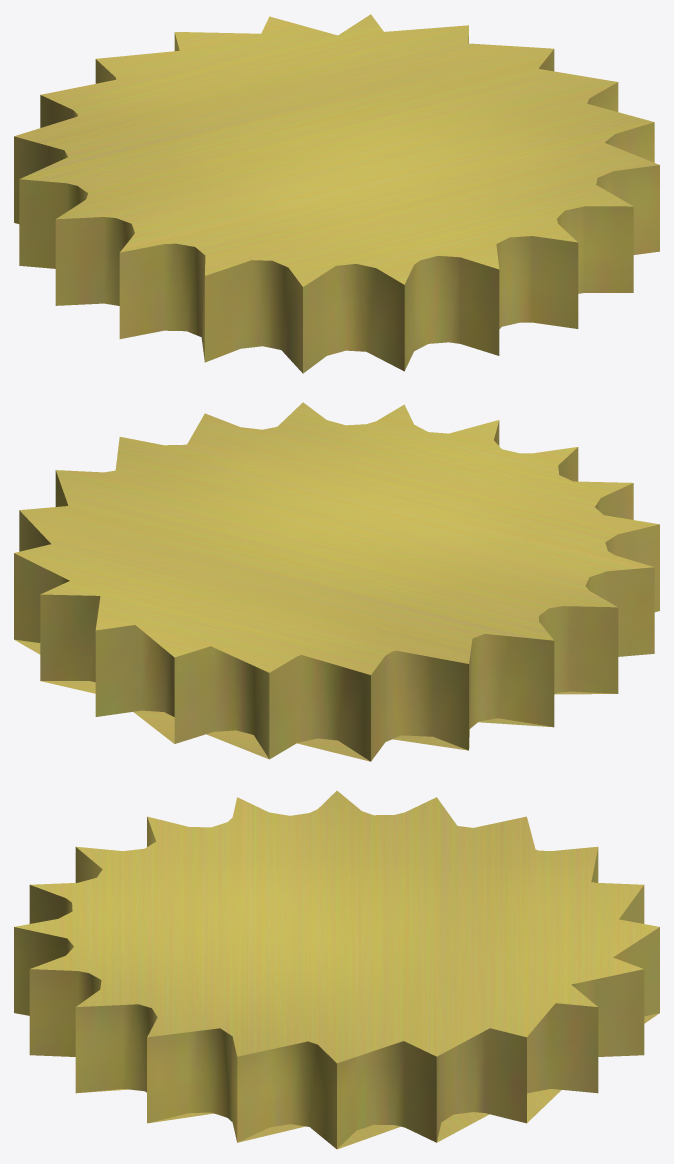
The model's file is SprocketFacet4Spoke020.fbx.
3 renders of one model, top to bottom at view 1: azimuth 30°, elevation 25°; view 2: azimuth 150°, elevation 25°; view 3: azimuth 270°, elevation 25°, orthographic.
Parts seen in each view (by area): view 1: SprocketFacet4Spoke020; view 2: SprocketFacet4Spoke020; view 3: SprocketFacet4Spoke020.
Boxes of the visible parts, x1,y1,x2,y2 form: SprocketFacet4Spoke020: (14,14,659,373); SprocketFacet4Spoke020: (14,402,659,761); SprocketFacet4Spoke020: (14,791,659,1149).
Size of the model in its own units: 134 by 19.69 by 134.
